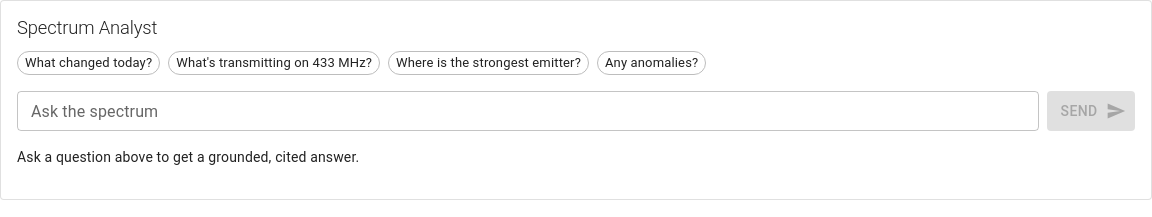
Test case: Analyst › fills the input when an example prompt chip is clicked
Click the button "What changed today?": (89, 63) top-left (17, 51), bottom-right (160, 75)
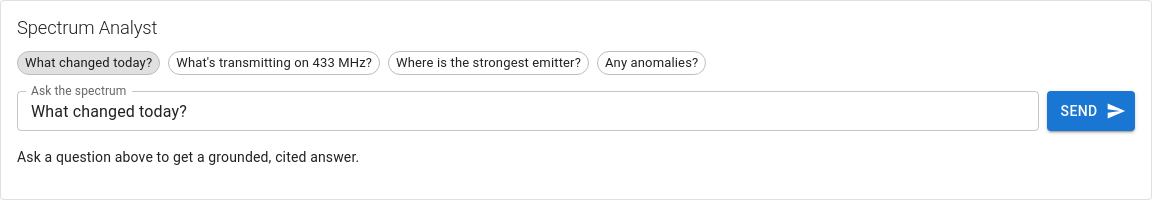
Expected: the field with placeholder "Ask about signals, devices, emitters, or alerts…" holds "What changed today?", top-left (17, 91), bottom-right (1039, 131)
